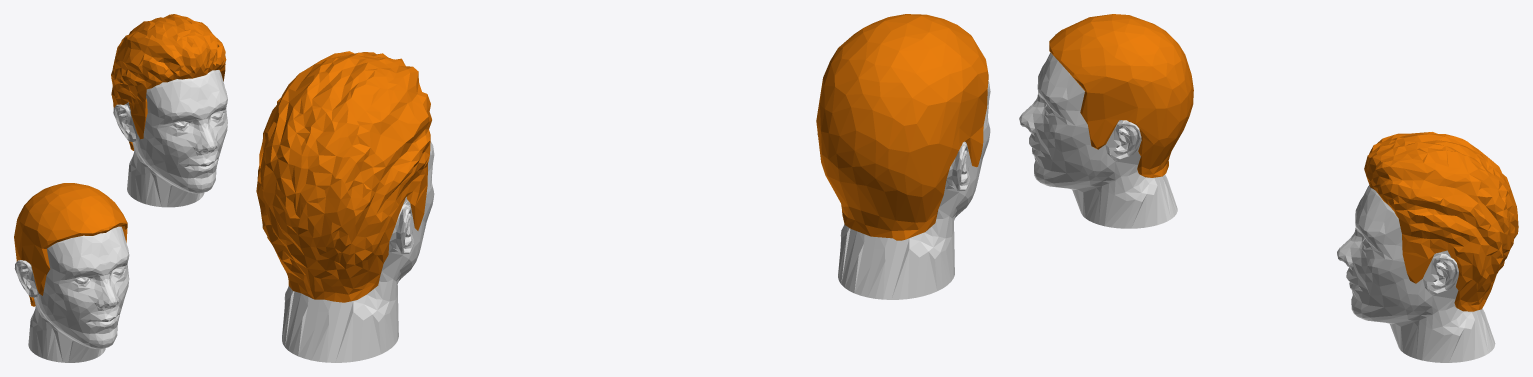
The model's file is BetterHaiws.fbx.
The picture shows the model from 3 angles, left to right: view 1: azimuth 30°, elevation 25°; view 2: azimuth 150°, elevation 25°; view 3: azimuth 270°, elevation 25°; orthographic projection. The views are drawn at different scales.
Parts seen in each view (by area): view 1: Group27054.003, Group27054.001, ManHairFBX.001, ManHairFBX.002; view 2: ManHairFBX.001, ManHairFBX.002, Group27054.003, Group27054.001; view 3: ManHairFBX.001, ManHairFBX.002, Group27054.003, Group27054.001.
Boxes of the visible parts, box(x1,y1,x2,y2) form: Group27054.003: box(113, 70, 227, 207); Group27054.001: box(14, 226, 129, 362); ManHairFBX.001: box(111, 14, 226, 150); ManHairFBX.002: box(14, 183, 127, 306); ManHairFBX.001: box(256, 51, 431, 302); ManHairFBX.002: box(816, 14, 988, 240); Group27054.003: box(282, 141, 434, 362); Group27054.001: box(817, 81, 990, 299); ManHairFBX.001: box(1364, 132, 1518, 311); ManHairFBX.002: box(1049, 14, 1193, 177); Group27054.003: box(1337, 185, 1495, 362); Group27054.001: box(1019, 52, 1177, 228).
Bounding box in the file's own units: 689 × 350 × 769.
